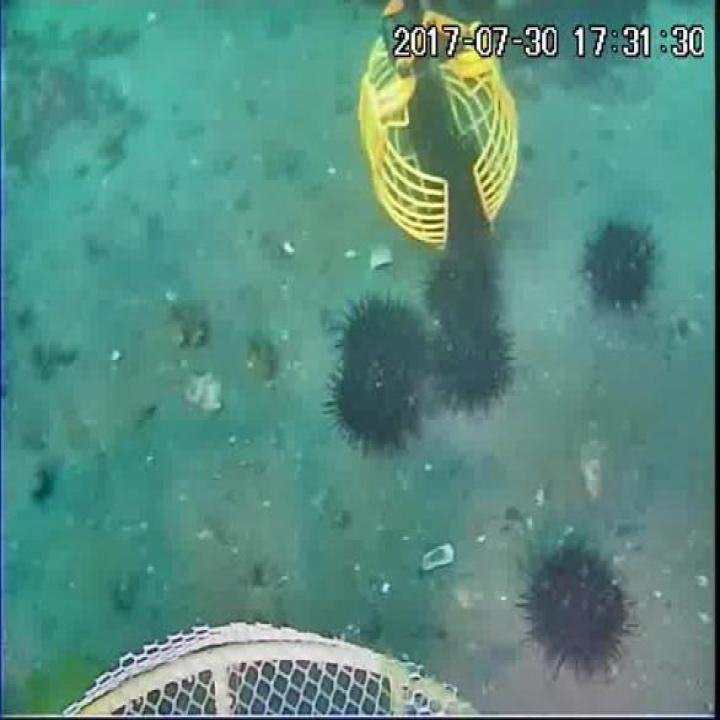echinus: (517, 542, 634, 678), (325, 346, 424, 458), (422, 310, 520, 420), (330, 291, 426, 387), (578, 216, 662, 316), (421, 249, 505, 341), (428, 147, 490, 233)
